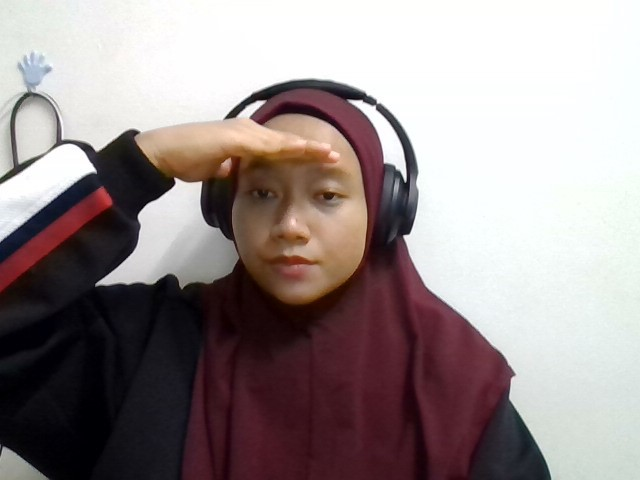Johor: (172, 118, 348, 184)
